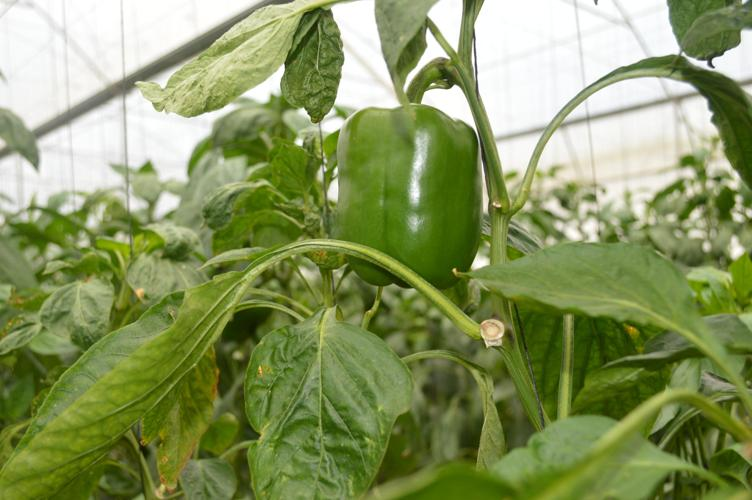BellPepper: (336, 95, 481, 304)
